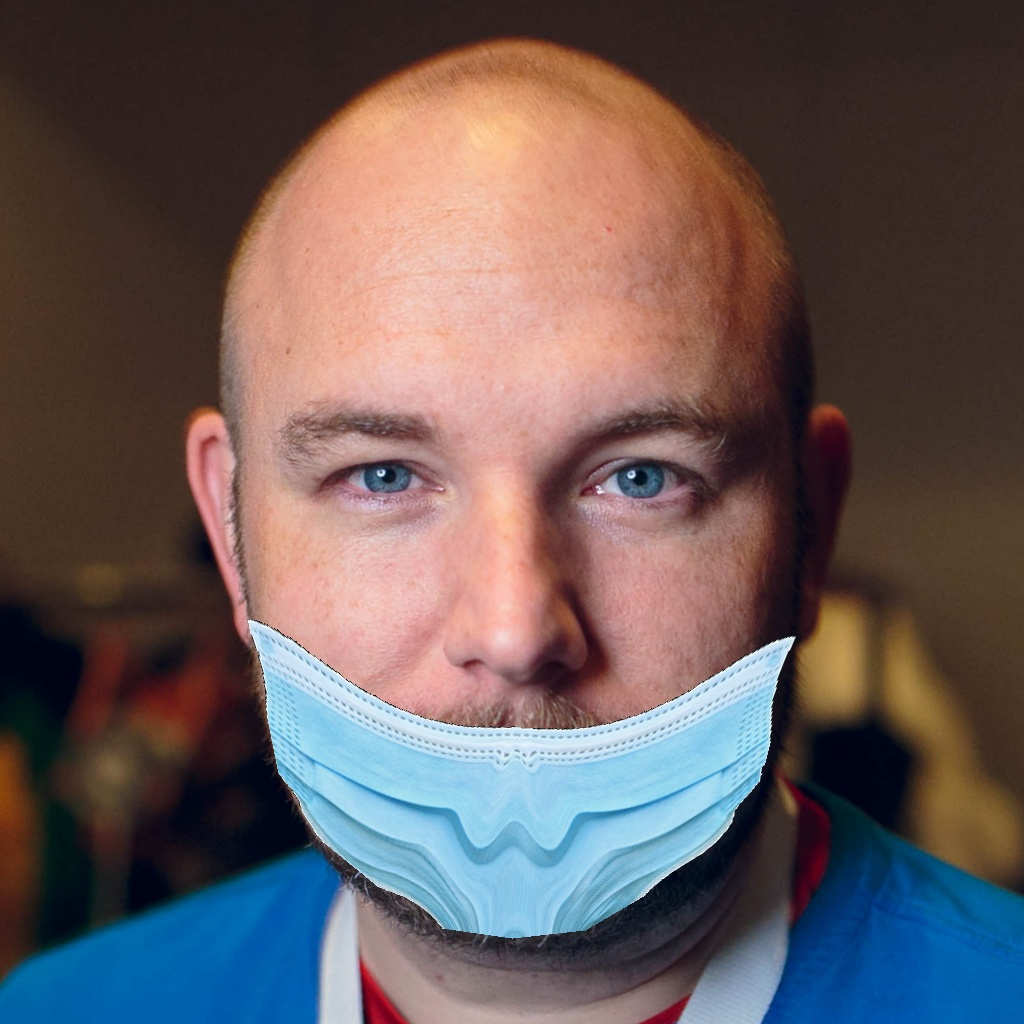mask_weared_incorrect: (230, 393, 819, 952)
